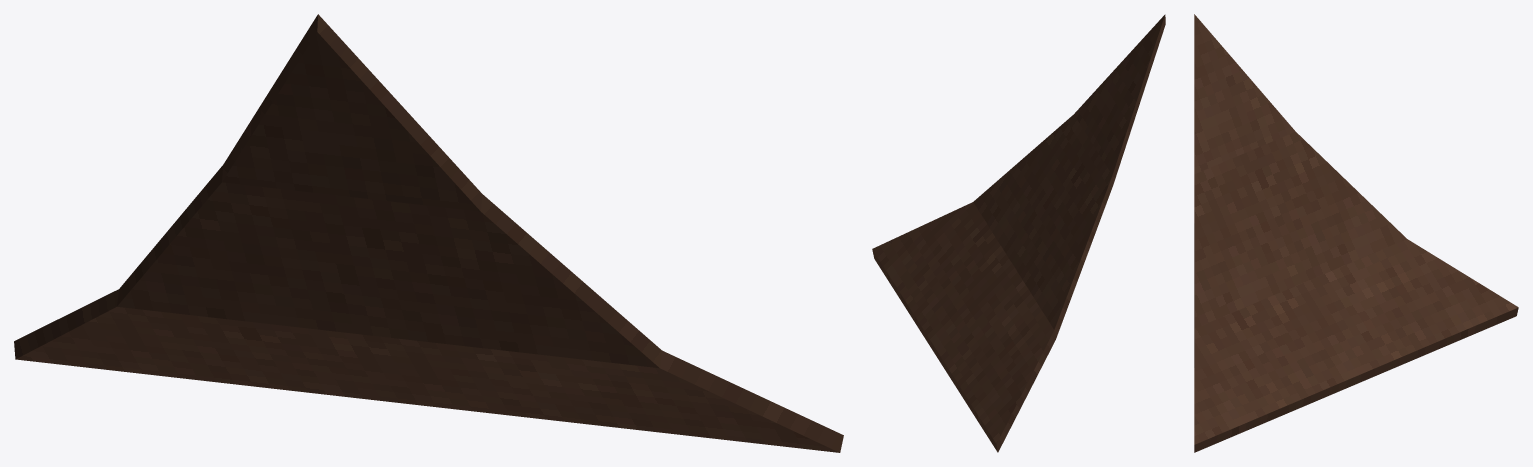
Rendered from red_cloth_45_diagonal.obj.
The picture shows the model from 3 angles, left to right: view 1: azimuth 30°, elevation 25°; view 2: azimuth 150°, elevation 25°; view 3: azimuth 270°, elevation 25°; orthographic projection. The views are drawn at different scales.
Parts seen in each view (by area): view 1: plane; view 2: plane; view 3: plane.
Boxes of the visible parts, x1=… form: plane: x1=14, y1=14, x2=843, y2=452; plane: x1=872, y1=14, x2=1165, y2=452; plane: x1=1194, y1=14, x2=1518, y2=452.
Bounding box in the file's own units: 2.01 × 2.06 × 2.
